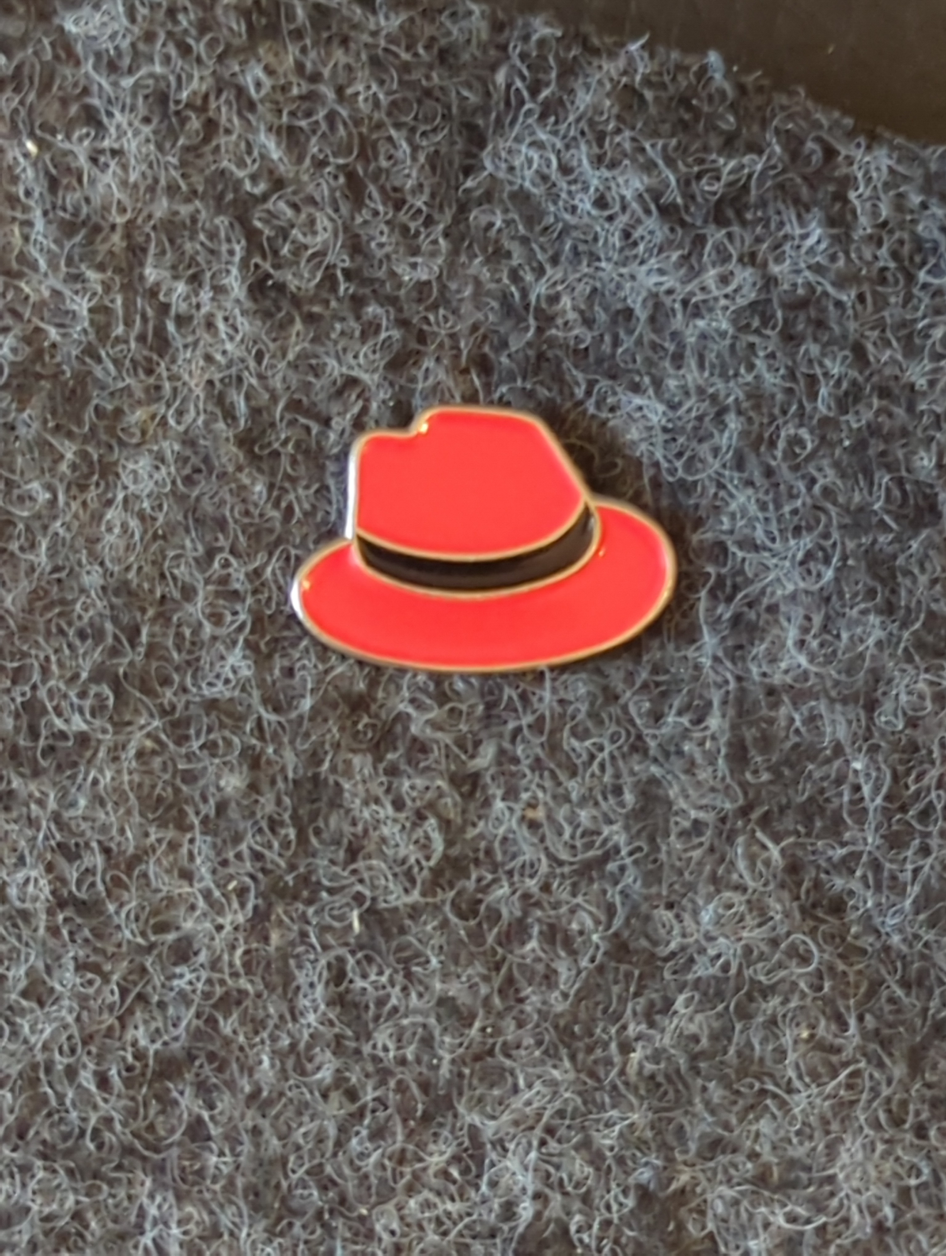Red-Hat: (183, 330, 786, 763)
